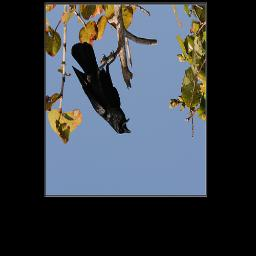Crow: (71, 43, 131, 135)
